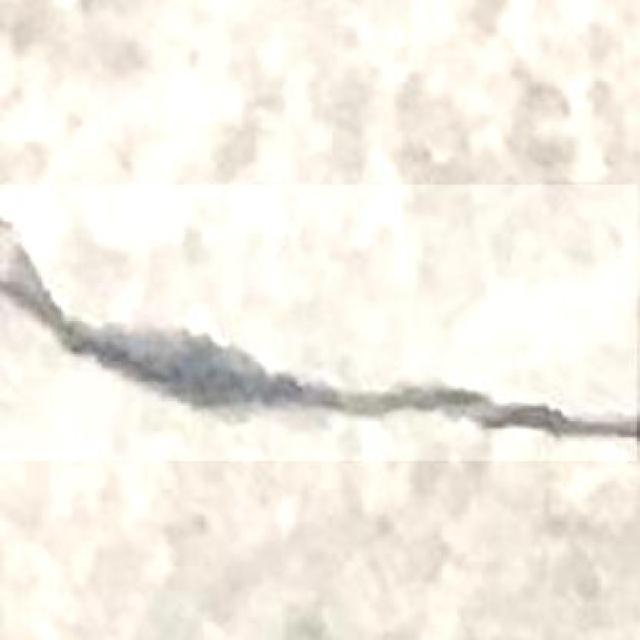Crack: (0, 216, 640, 466)
